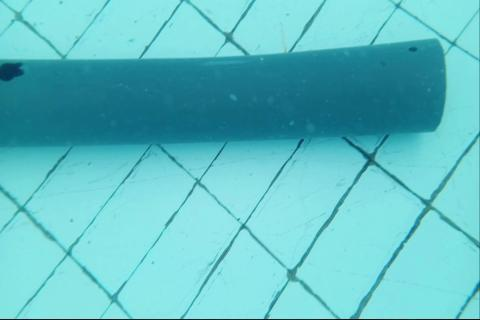kebocoran: (0, 61, 25, 83), (407, 45, 418, 52)
